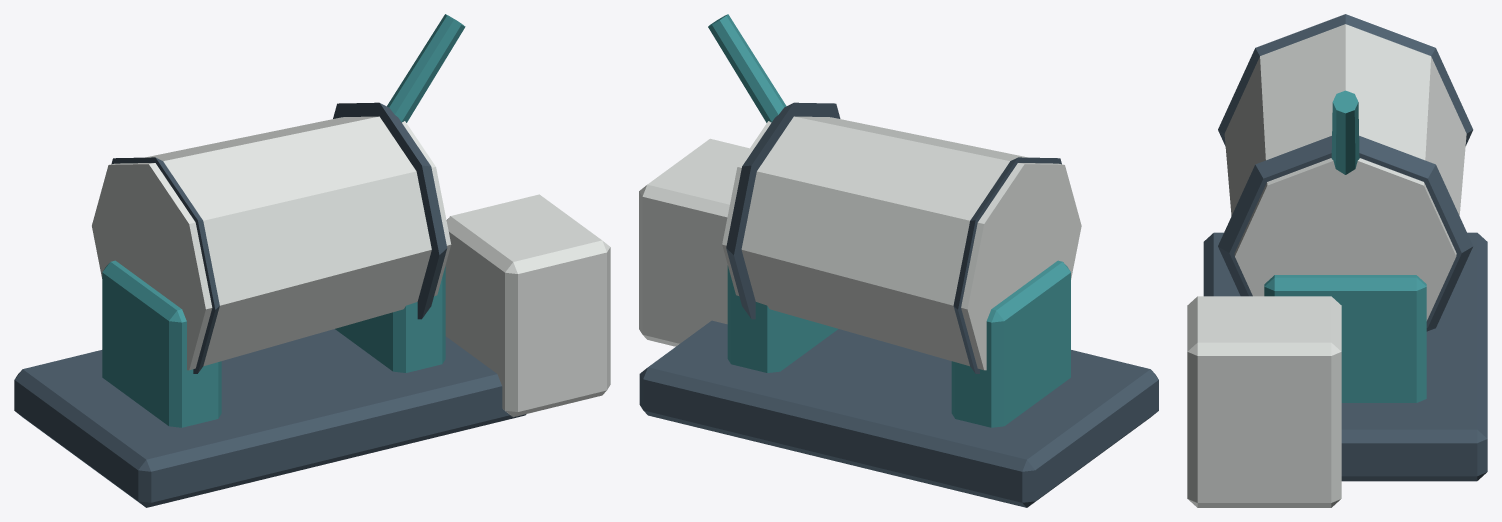
3 views of the same model, side by side, from view 1: azimuth 30°, elevation 25°; view 2: azimuth 150°, elevation 25°; view 3: azimuth 270°, elevation 25° (orthographic). The views are drawn at different scales.
Parts seen in each view (by area): view 1: ME-029 Drum ice-separation apparatus batched; view 2: ME-029 Drum ice-separation apparatus batched; view 3: ME-029 Drum ice-separation apparatus batched.
Boxes of the visible parts, x1,y1,x2,y2 form: ME-029 Drum ice-separation apparatus batched: (14,14,610,507); ME-029 Drum ice-separation apparatus batched: (639,14,1158,507); ME-029 Drum ice-separation apparatus batched: (1187,14,1487,507).
Size of the model in its own units: 1.41 by 1.04 by 0.74.
